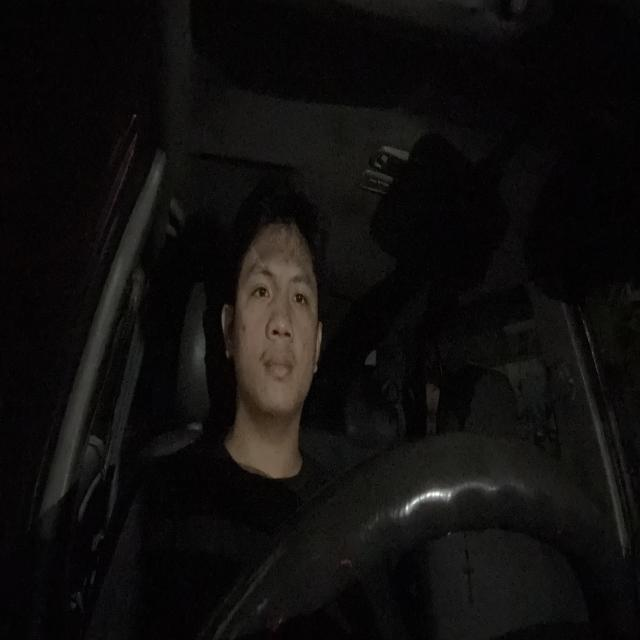open: (244, 264, 275, 314), (289, 269, 315, 317)
